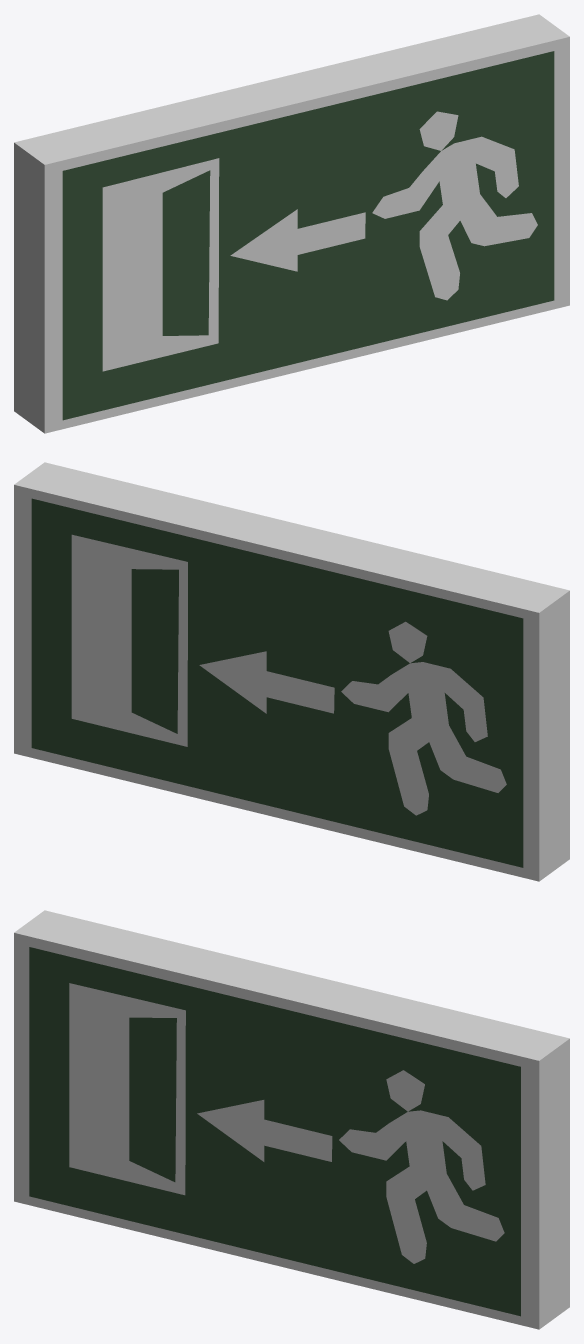
The model's file is fire.fbx.
3 renders of one model, top to bottom at view 1: azimuth 30°, elevation 25°; view 2: azimuth 150°, elevation 25°; view 3: azimuth 330°, elevation 25°, orthographic.
Parts seen in each view (by area): view 1: Cube.001; view 2: Cube.001; view 3: Cube.001.
Boxes of the visible parts, x1,y1,x2,y2 form: Cube.001: (14, 14, 569, 433); Cube.001: (14, 462, 569, 881); Cube.001: (14, 910, 569, 1329).
Size of the model in its own units: 144 by 70.6 by 15.88.
